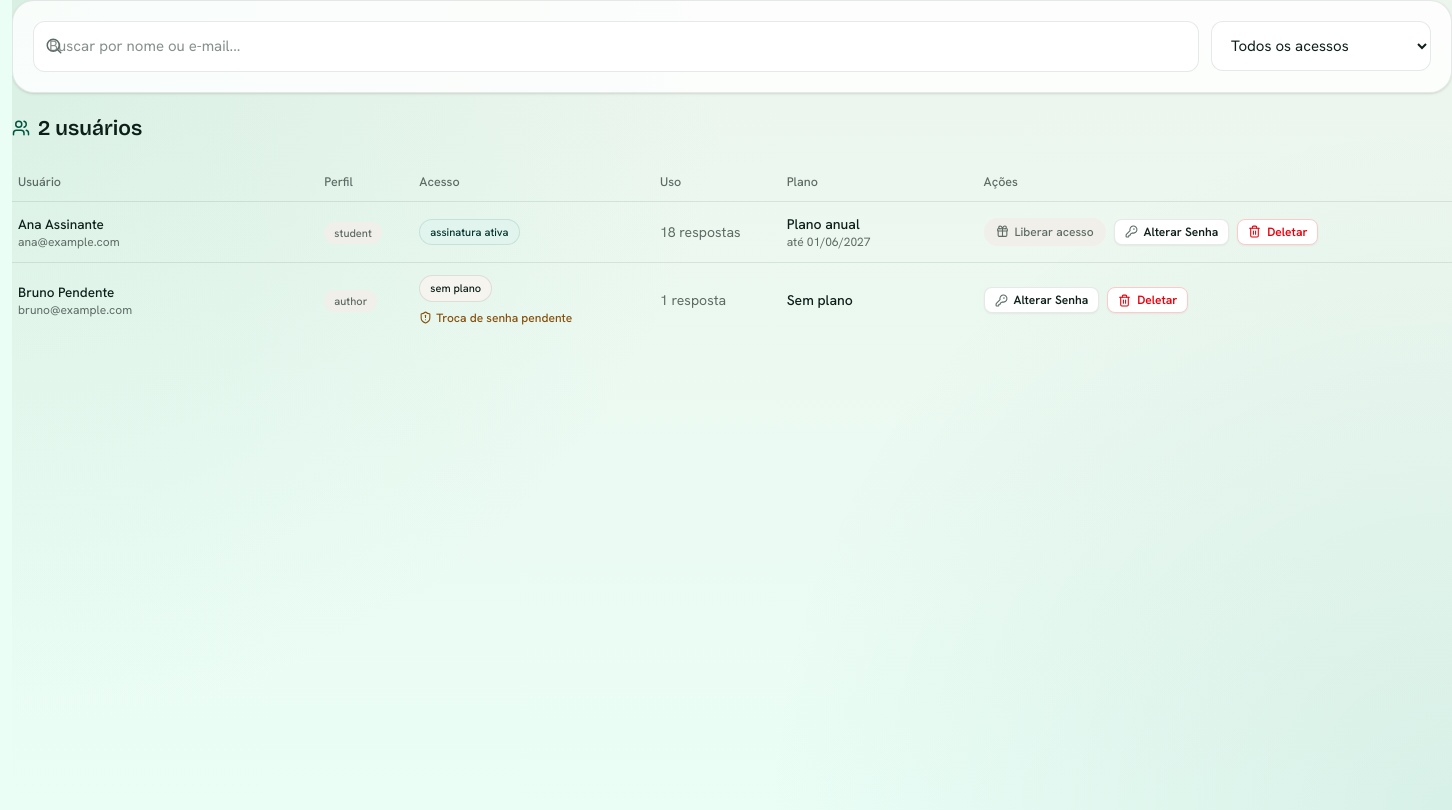
it: AdminUsersManager › filters users locally by search and access state
The image size is (1452, 810).
In the search field with placeholder "Buscar por nome ou e-mail...": (616, 46) [33,21,1199,72], type "bruno"
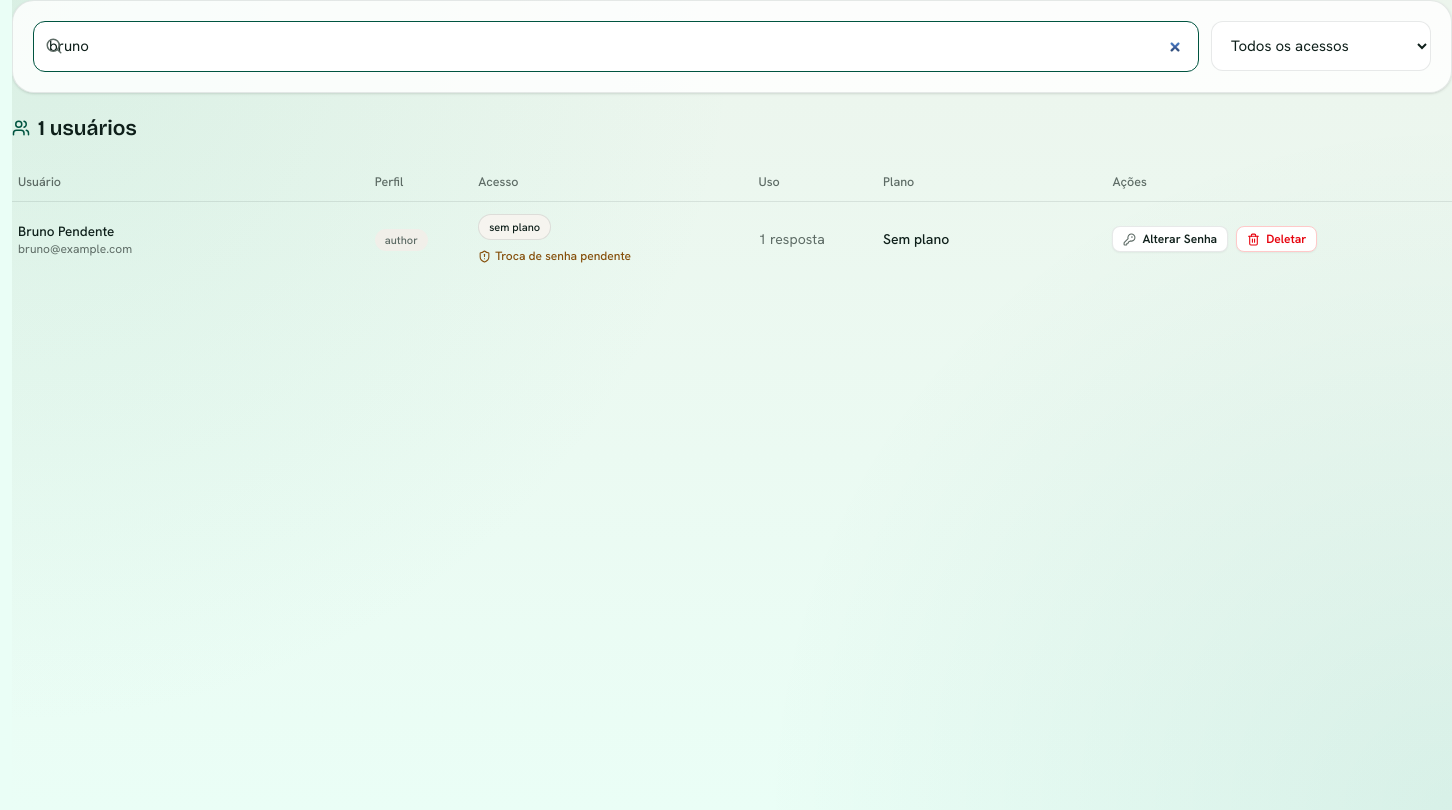
Expected: the text "bruno@example.com" is shown, [18,241,132,257]
Now the text "ana@example.com" is gone
Clear the search field with placeholder "Buscar por nome ou e-mail...": (616, 46) [33,21,1199,72]
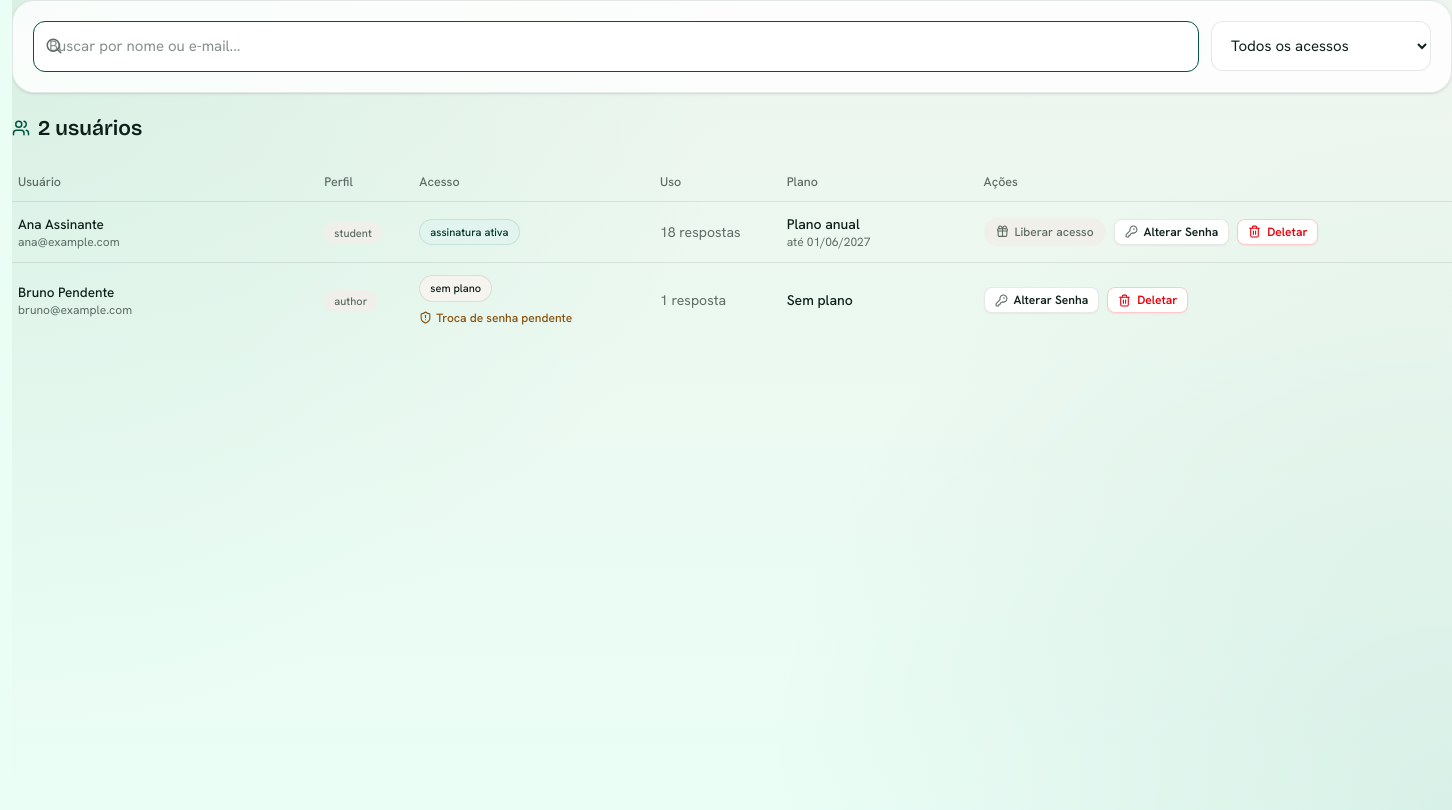
Select "Assinaturas ativas" in the dropdown named "Filtrar por acesso": (1321, 46) [1211,21,1431,71]
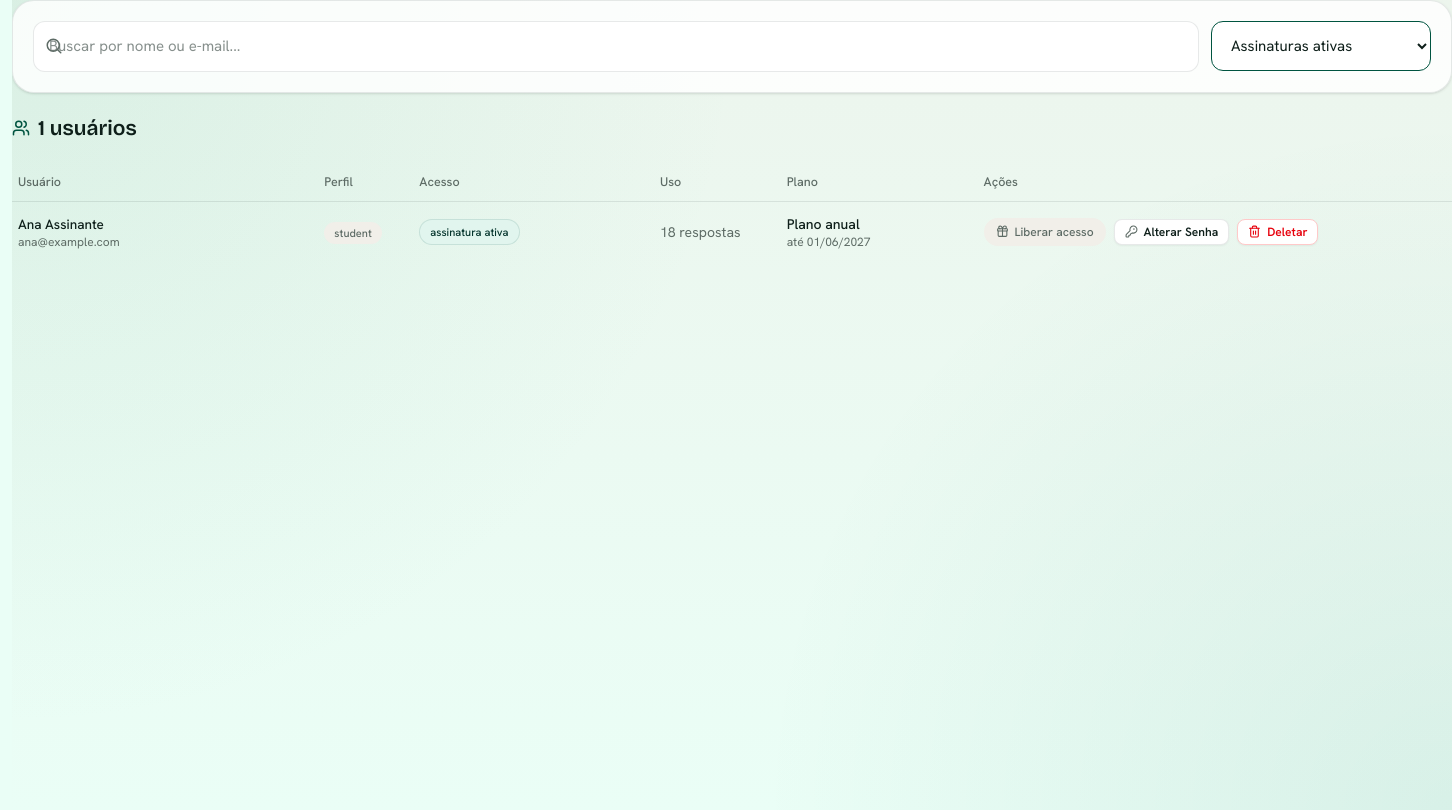
Now the text "ana@example.com" is shown, box [18,234,120,250]
Now the text "bruno@example.com" is gone
